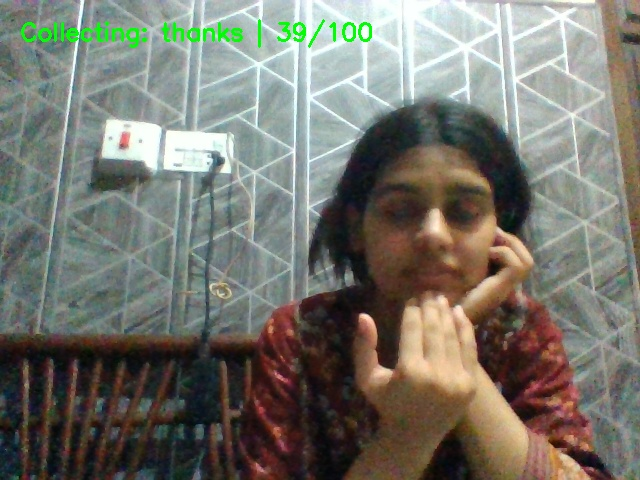thanks: (345, 287, 546, 475)
